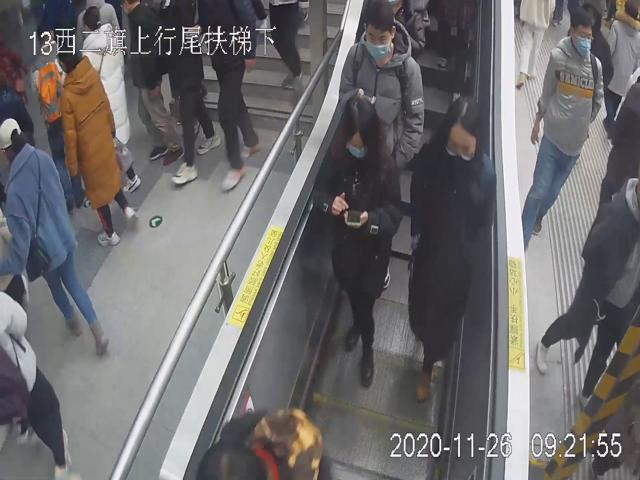person: (408, 92, 497, 403), (311, 92, 402, 389), (522, 6, 604, 253), (339, 0, 426, 170)
